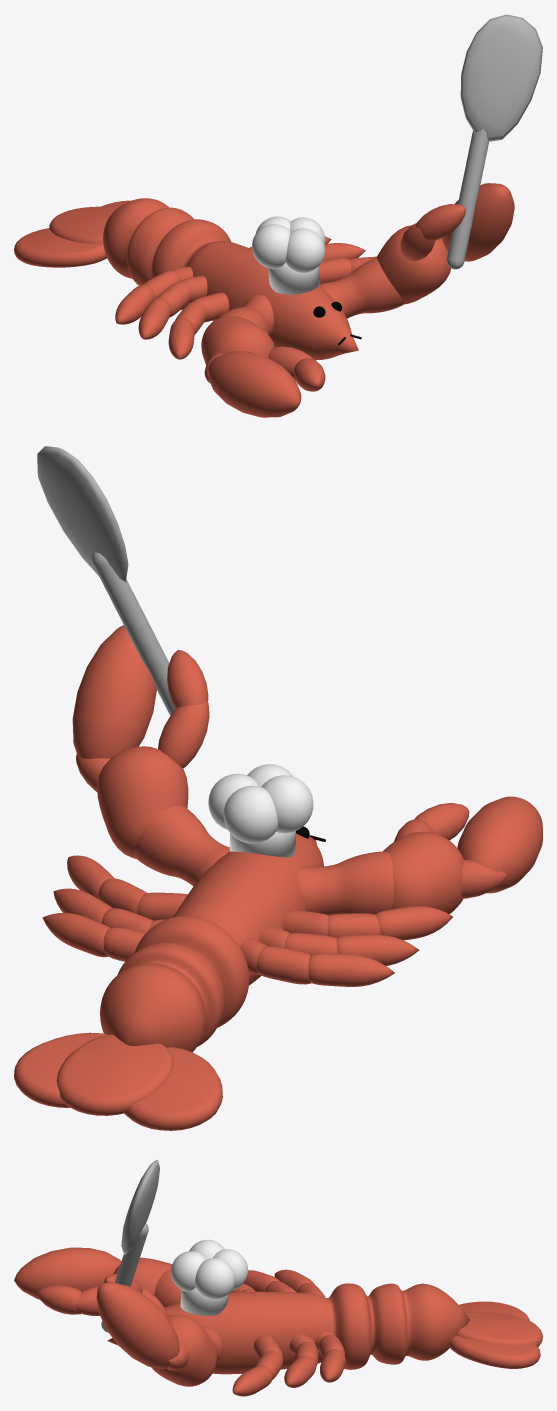
The model's file is lobster.glb.
The picture shows the model from 3 angles, top to bottom: view 1: azimuth 30°, elevation 25°; view 2: azimuth 150°, elevation 25°; view 3: azimuth 270°, elevation 25°; orthographic projection. The views are drawn at different scales.
Visible parts, largest first — view 1: lobster; view 2: lobster; view 3: lobster.
Boxes of the visible parts, box(x1,y1,x2,y2) form: lobster: box(14, 14, 542, 417); lobster: box(14, 446, 542, 1130); lobster: box(14, 1159, 542, 1396).
Bounding box in the file's own units: 4 × 3.48 × 5.63.
